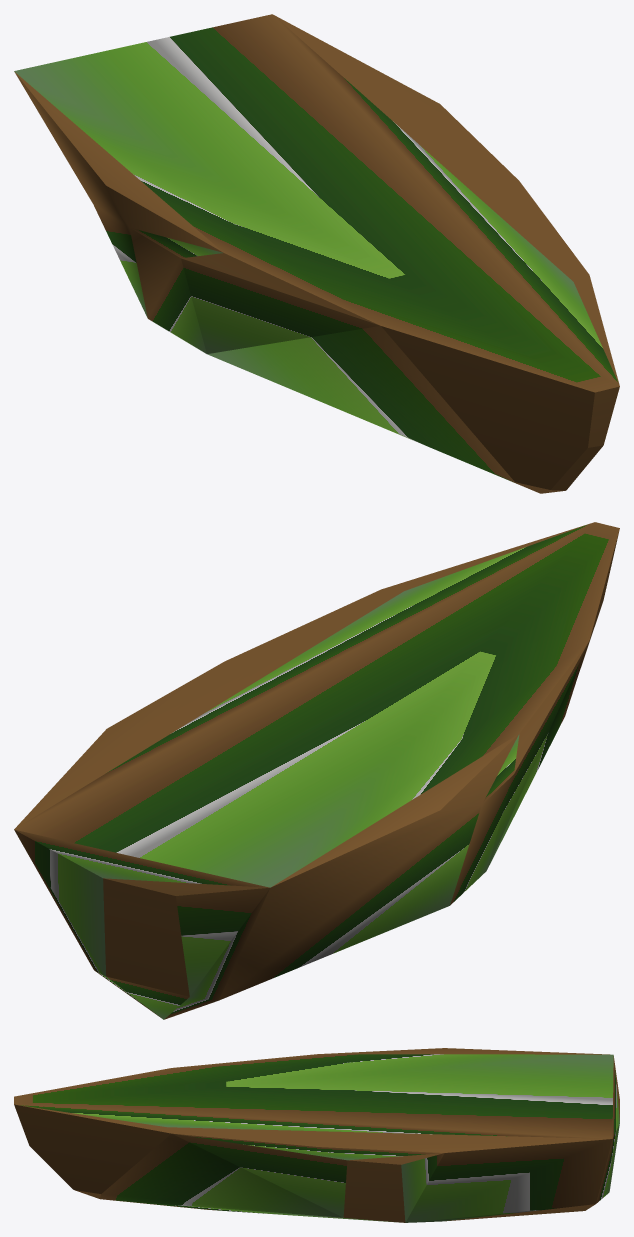
File: boatMask.fbx
3 renders of one model, top to bottom at view 1: azimuth 30°, elevation 25°; view 2: azimuth 150°, elevation 25°; view 3: azimuth 270°, elevation 25°, orthographic. The views are drawn at different scales.
Parts seen in each view (by area): view 1: Cube.001; view 2: Cube.001; view 3: Cube.001.
Boxes of the visible parts, x1,y1,x2,y2 form: Cube.001: [14, 14, 619, 493]; Cube.001: [14, 522, 619, 1019]; Cube.001: [14, 1048, 619, 1222].
Size of the model in its own units: 134 by 66.89 by 317.
